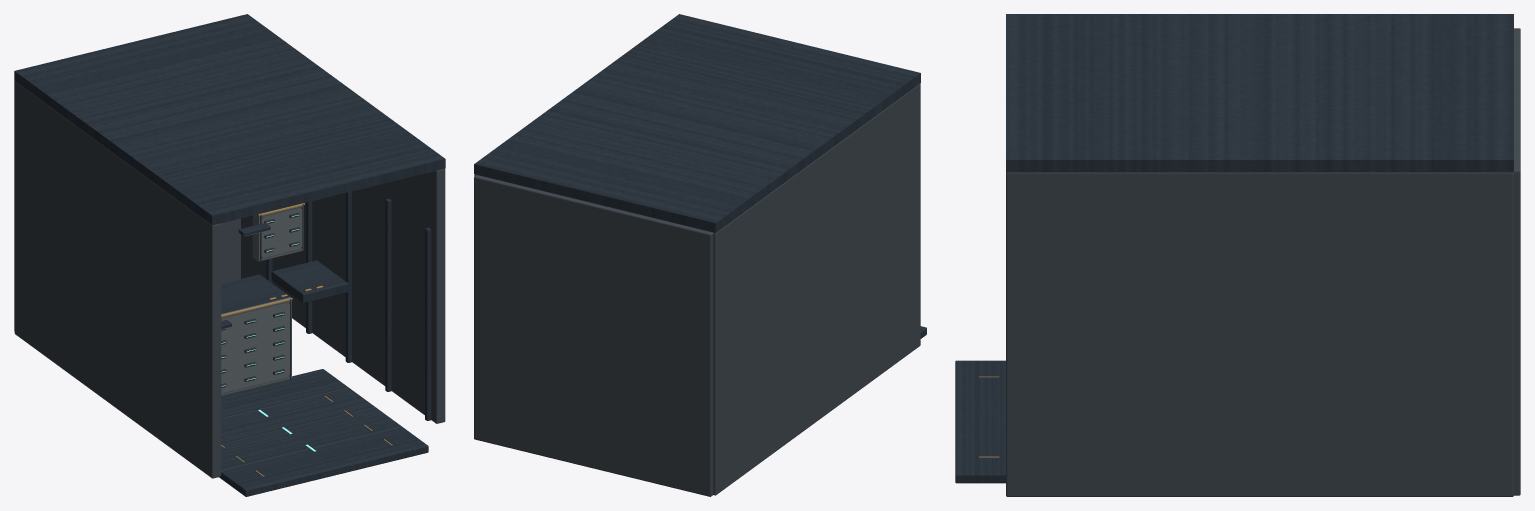
File: maintenance_jutsu_v1.glb
3 renders of one model, left to right at view 1: azimuth 30°, elevation 25°; view 2: azimuth 150°, elevation 25°; view 3: azimuth 270°, elevation 25°, orthographic. The views are drawn at different scales.
Visible parts, largest first — view 1: Maintenance_Static_Deep_service_void, Maintenance_Static_Graphite_structural_steel, Maintenance_Static_Ivory_grip_ceramic, Maintenance_Static_Warning_amber; view 2: Maintenance_Static_Deep_service_void, Maintenance_Static_Graphite_structural_steel; view 3: Maintenance_Static_Deep_service_void, Maintenance_Static_Graphite_structural_steel.
Part boxes in pixels (box(x1,y1,x2,y2)): Maintenance_Static_Deep_service_void: box(14, 81, 445, 478); Maintenance_Static_Graphite_structural_steel: box(14, 14, 445, 496); Maintenance_Static_Ivory_grip_ceramic: box(221, 205, 303, 395); Maintenance_Static_Warning_amber: box(221, 203, 392, 476); Maintenance_Static_Deep_service_void: box(474, 83, 920, 496); Maintenance_Static_Graphite_structural_steel: box(474, 14, 926, 338); Maintenance_Static_Deep_service_void: box(1006, 28, 1520, 496); Maintenance_Static_Graphite_structural_steel: box(955, 14, 1513, 483).
Bounding box in the file's own units: 10.2 × 11.3 × 16.7.
6 materials, 2 textured.
